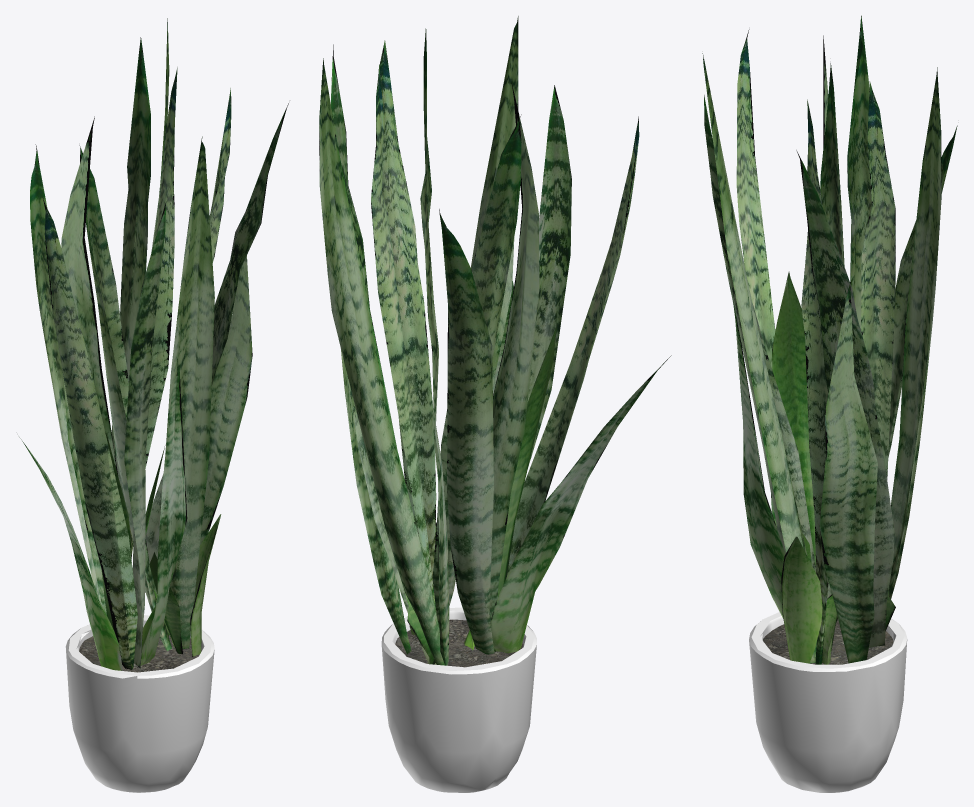
Rendered from Plant 1.FBX.
3 renders of one model, left to right at view 1: azimuth 30°, elevation 25°; view 2: azimuth 150°, elevation 25°; view 3: azimuth 270°, elevation 25°, orthographic. The views are drawn at different scales.
Visible parts, largest first — view 1: Plant 1; view 2: Plant 1; view 3: Plant 1.
Boxes of the visible parts, bbox=[...] form: Plant 1: bbox=[19, 18, 288, 792]; Plant 1: bbox=[319, 16, 671, 792]; Plant 1: bbox=[702, 15, 957, 792].
Size of the model in its own units: 53.12 by 37.06 by 122.
Materials: 1 (1 with a texture image).
